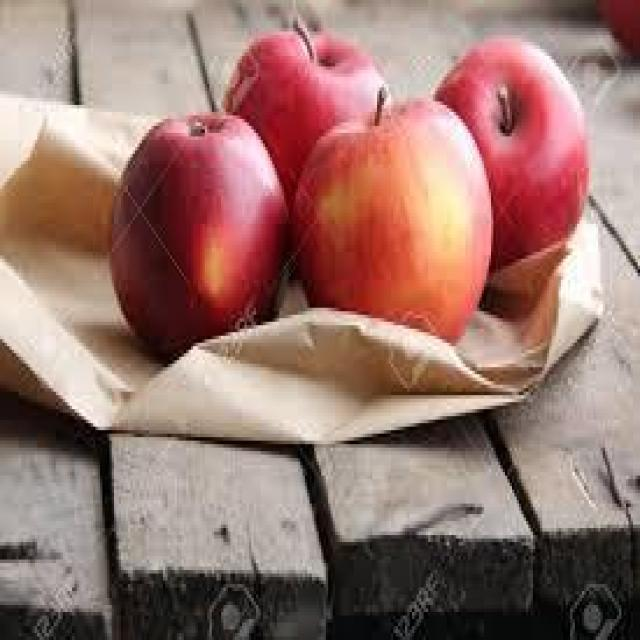maca: (288, 84, 494, 343), (107, 108, 289, 357), (430, 32, 589, 270)
